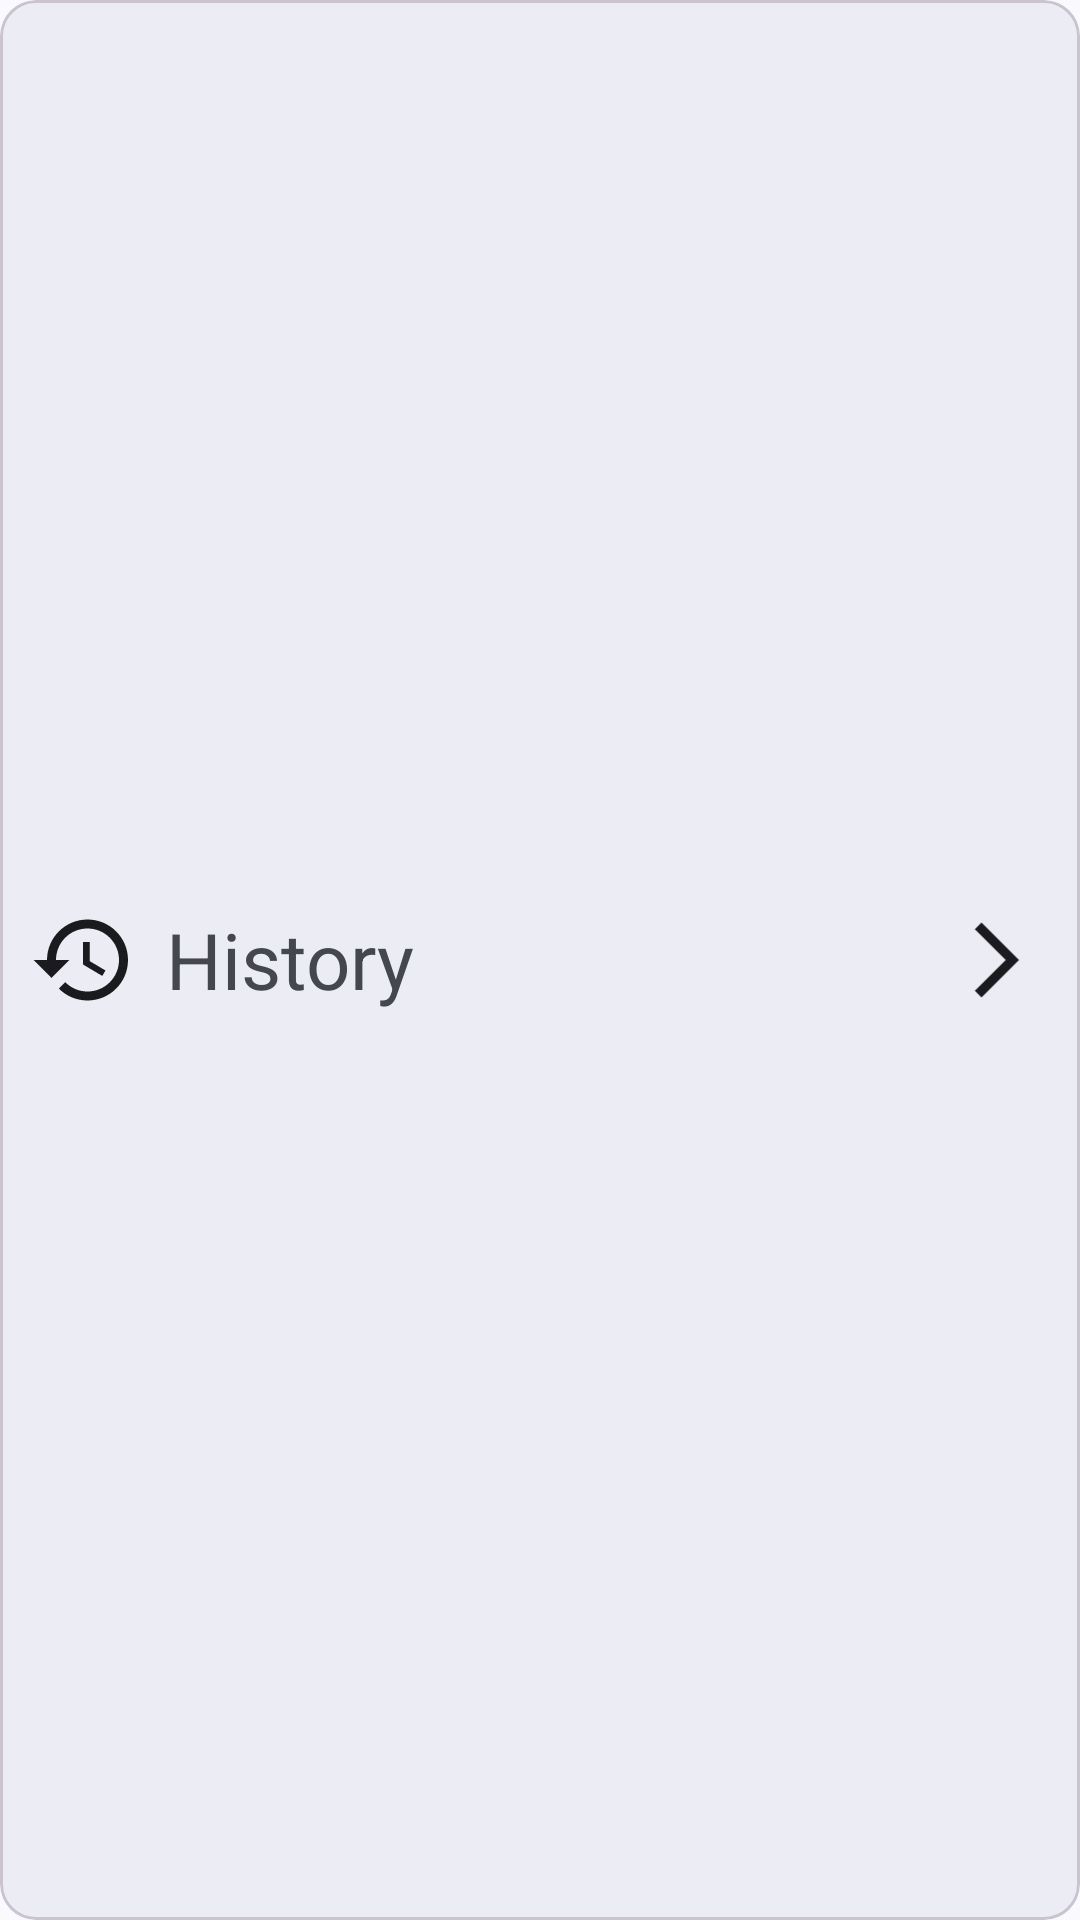

Where icons sit on this 1080w x 1920h app screen, as [x1, y1, x2, y2]:
arrow forward: [974, 922, 1019, 998]
